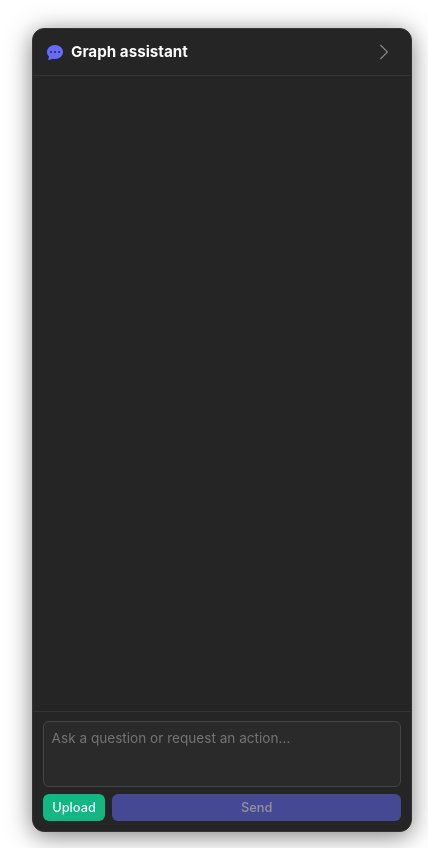
ChatPanel › Message sending › shows loading state while processing
In the text box with placeholder "Ask a question or request an action...": (222,754) [43,721,401,787], type "Search"
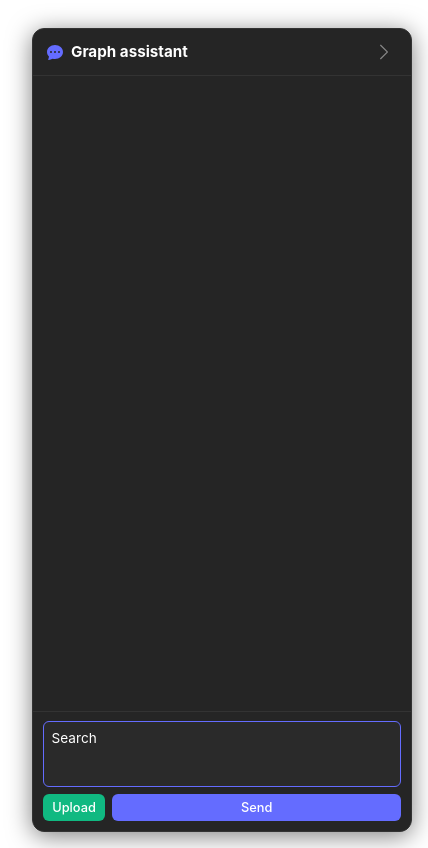
Click the button "Send": (257,808) [112,794,401,821]
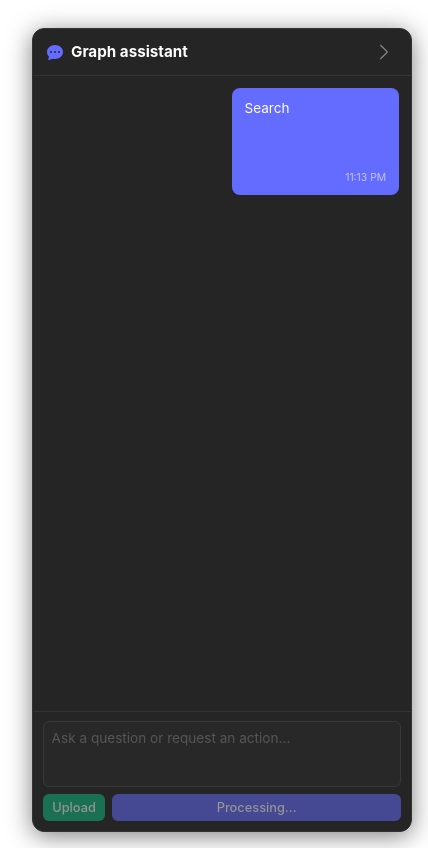
expect the button "Processing..." is disabled: met, box [112,794,401,821]
